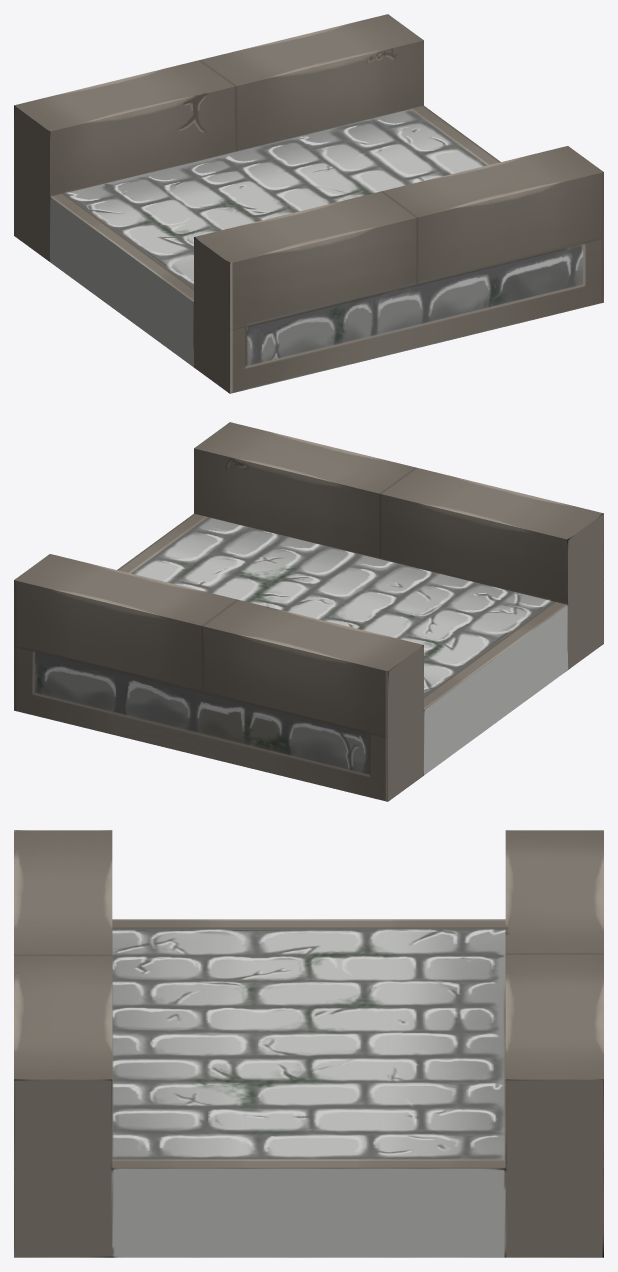
Rendered from Bridge3V2.0.fbx.
The picture shows the model from 3 angles, top to bottom: view 1: azimuth 30°, elevation 25°; view 2: azimuth 150°, elevation 25°; view 3: azimuth 270°, elevation 25°; orthographic projection. The views are drawn at different scales.
Visible parts, largest first — view 1: pCube79; view 2: pCube79; view 3: pCube79.
Boxes of the visible parts, x1=… form: pCube79: x1=14, y1=14, x2=603, y2=393; pCube79: x1=14, y1=422, x2=603, y2=801; pCube79: x1=14, y1=830, x2=603, y2=1257.
Bounding box in the file's own units: 12 × 4 × 12.
Materials: 1 (1 with a texture image).
